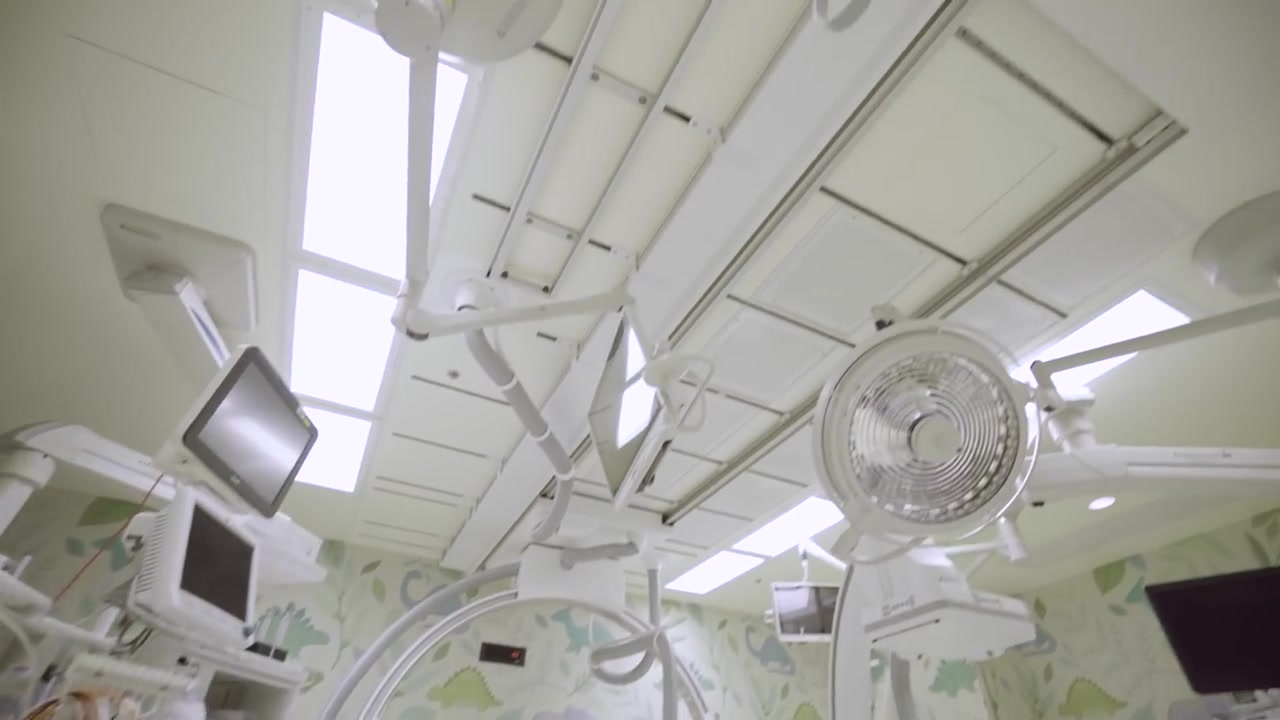bedside_monitor: (180, 347, 321, 517), (135, 490, 261, 647), (1143, 564, 1280, 700), (769, 583, 853, 644)
surgical_light: (813, 326, 1035, 552)
